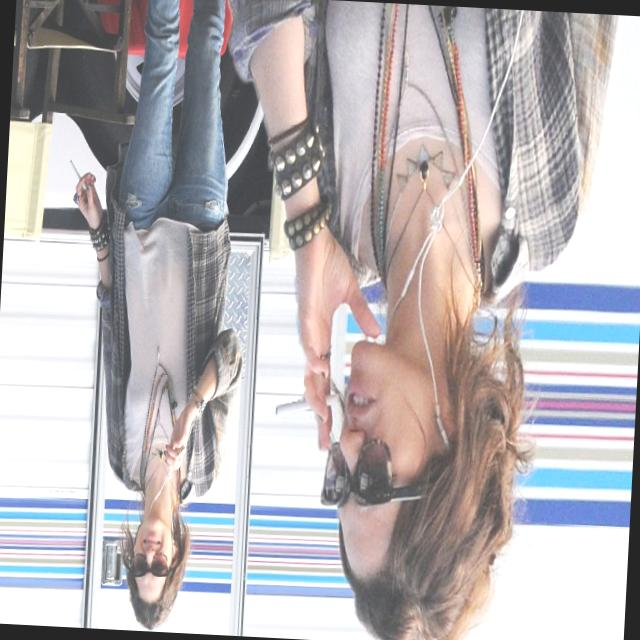cigarette: (276, 396, 306, 421), (66, 156, 81, 182)
